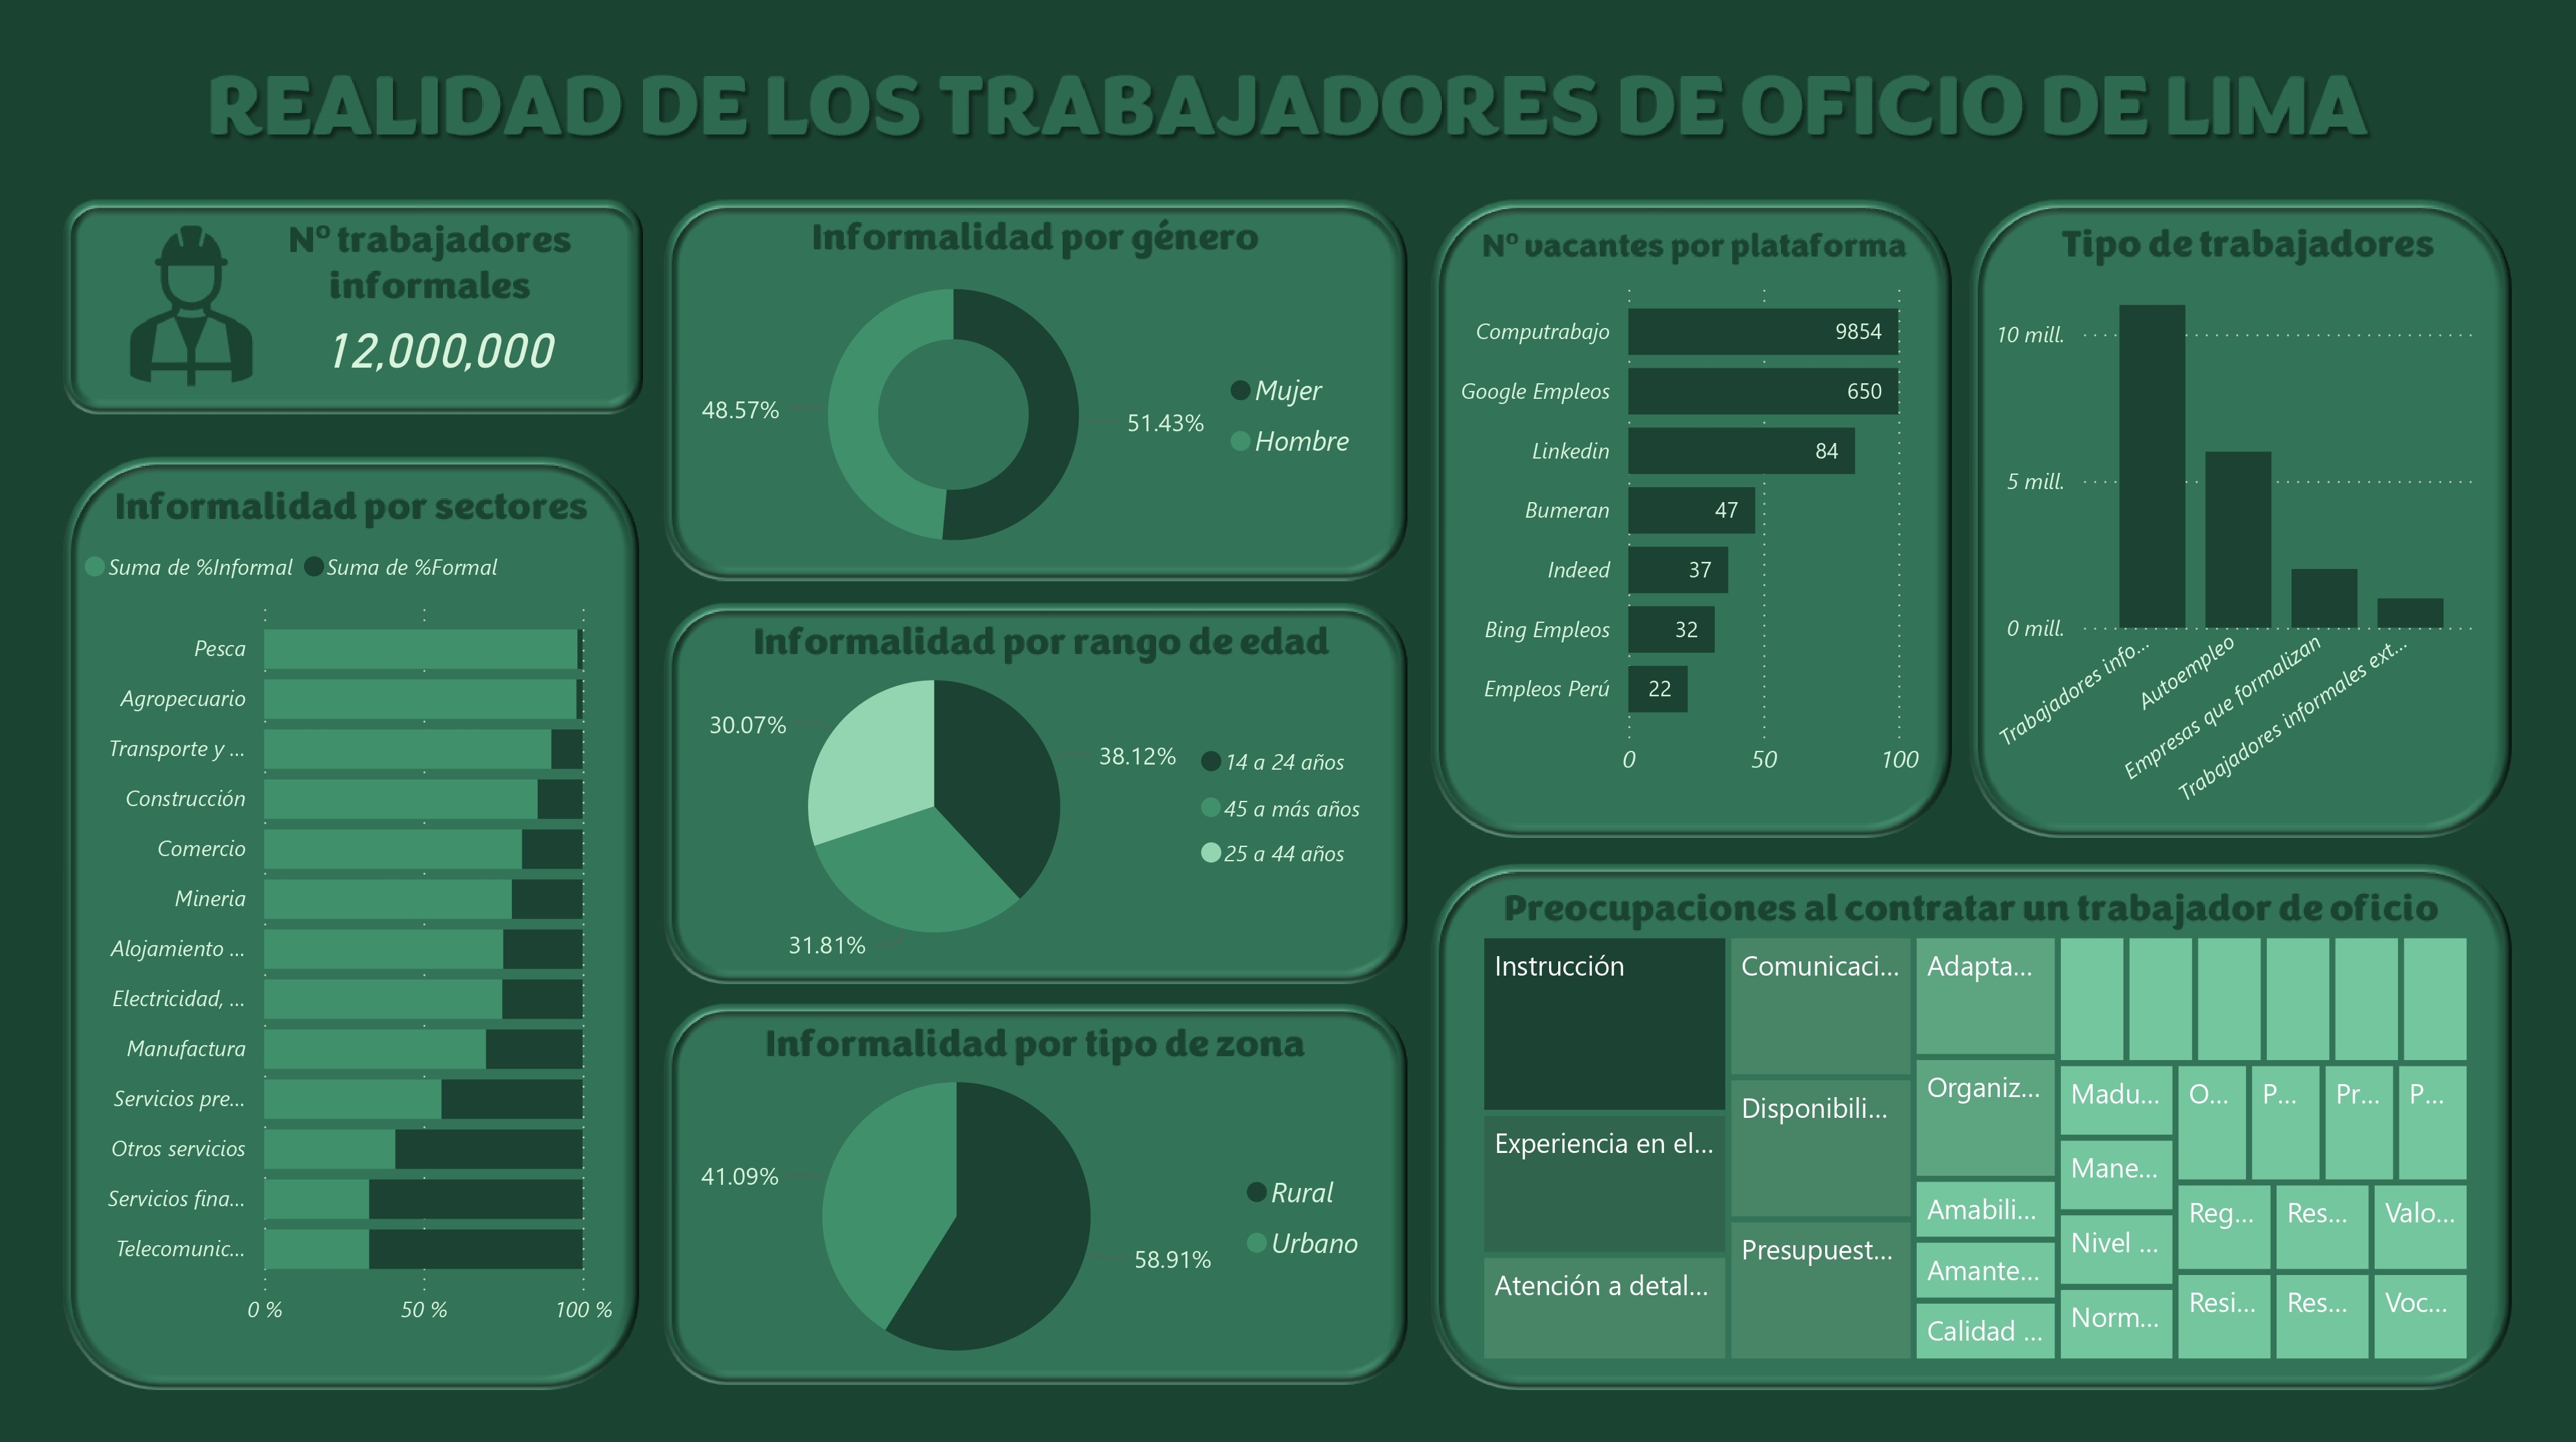

The page's visual inventory and layout, read from the dashboard file:
{"tool":"powerbi","page":{"name":"Página 1","canvas":[1280,720],"ordinal":0},"visuals":[{"type":"pieChart","fields":{"Category":["Informalidad_edad.Rango_edad"],"Y":["Sum(Informalidad_edad.Porcentaje)"]},"box":[330.1,315.3,359.5,175.5],"z":0},{"type":"donutChart","fields":{"Category":["Informalidad_gen.Género"],"Y":["Sum(Informalidad_gen.Porcentaje)"]},"box":[335,122.7,349.7,174.2],"z":1000},{"type":"barChart","fields":{"Category":["Informalidad_sector.Sector"],"Y":["Sum(Informalidad_sector.%Informal)","Sum(Informalidad_sector.%Formal)"]},"box":[42.2,265.6,271.1,402.2],"z":2000},{"type":"pieChart","fields":{"Category":["Informalidad_zona.Tipo_zona"],"Y":["Sum(Informalidad_zona.Porcentaje)"]},"box":[330.1,511.7,359.5,186.5],"z":3000},{"type":"treemap","fields":{"Group":["Preocupaciones.Preocupación"],"Values":["CountNonNull(Preocupaciones.Trabajo)"]},"box":[732.2,463.3,493.3,216.7],"z":4000},{"type":"columnChart","fields":{"Category":["Situacion_empleo.Tipo_trabajo"],"Y":["Sum(Situacion_empleo.N_per_emp)"]},"box":[982.8,142.3,250.3,271.2],"z":5000},{"type":"card","fields":{"Values":["Sum(Situacion_empleo.N_per_emp)"]},"box":[139.9,144.8,162,65],"z":6000},{"type":"clusteredBarChart","fields":{"Y":["Busqueda_trabajo.Total_trabajos"],"Category":["Busqueda_trabajo.Plataforma"]},"box":[712.9,132.5,242.9,265],"z":7000}]}

Visuals, with their boxes in screenshot pixels (x1, y1, x2, y2), scaled from the page's 1280x720 canvas onto the 2576x1442 screenshot:
pieChart - Informalidad_edad.Rango_edad x Sum(Informalidad_edad.Porcentaje): bbox=(664, 631, 1388, 983)
donutChart - Informalidad_gen.Género x Sum(Informalidad_gen.Porcentaje): bbox=(674, 246, 1378, 594)
barChart - Informalidad_sector.Sector x Sum(Informalidad_sector.%Informal): bbox=(85, 532, 631, 1337)
pieChart - Informalidad_zona.Tipo_zona x Sum(Informalidad_zona.Porcentaje): bbox=(664, 1025, 1388, 1398)
treemap - Preocupaciones.Preocupación x CountNonNull(Preocupaciones.Trabajo): bbox=(1474, 928, 2466, 1362)
columnChart - Situacion_empleo.Tipo_trabajo x Sum(Situacion_empleo.N_per_emp): bbox=(1978, 285, 2482, 828)
card - Sum(Situacion_empleo.N_per_emp): bbox=(281, 290, 607, 420)
clusteredBarChart - Busqueda_trabajo.Total_trabajos x Busqueda_trabajo.Plataforma: bbox=(1435, 266, 1923, 796)
